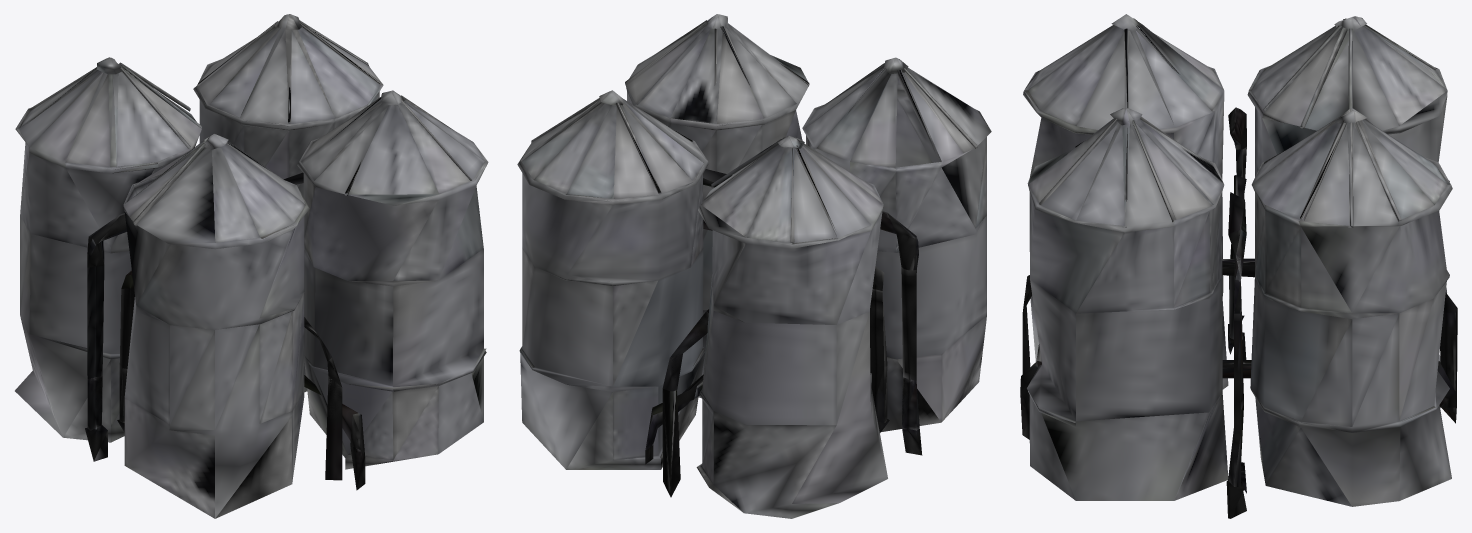
The model's file is 21-industrial-silos.glb.
3 renders of one model, left to right at view 1: azimuth 30°, elevation 25°; view 2: azimuth 150°, elevation 25°; view 3: azimuth 270°, elevation 25°, orthographic. The views are drawn at different scales.
Visible parts, largest first — view 1: geometry_0; view 2: geometry_0; view 3: geometry_0.
Part boxes in pixels (left/top/right/bottom): geometry_0: left=15, top=14, right=488, bottom=518; geometry_0: left=517, top=14, right=991, bottom=518; geometry_0: left=1020, top=14, right=1457, bottom=518.
Bounding box in the file's own units: 0.9204 × 0.8936 × 0.9521.
1 material, 1 textured.
